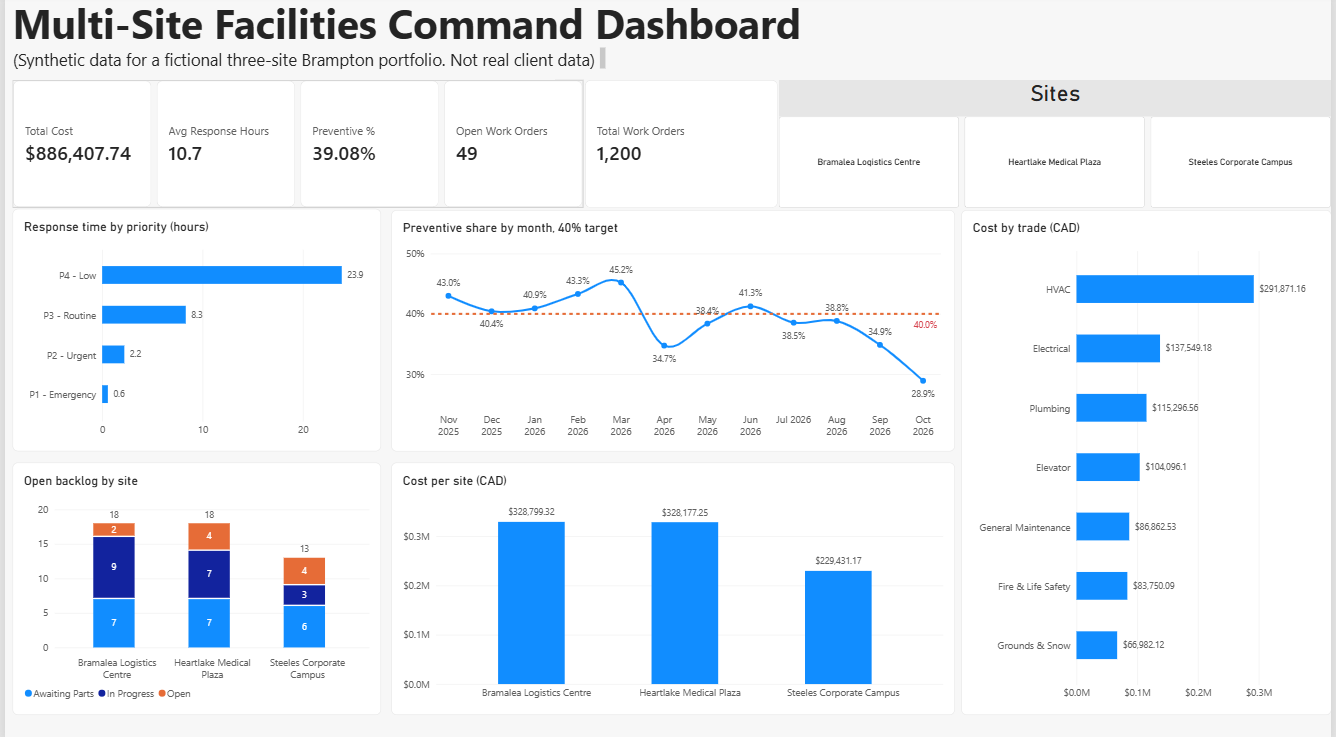

What the dashboard file says about the page in this screenshot:
{"tool":"powerbi","page":{"name":"Page 1","canvas":[1920,1080],"ordinal":0},"visuals":[{"type":"cardVisual","fields":{"Data":["WorkOrders.Total Work Orders"]},"box":[839.8,123.5,279.9,185.2],"z":0},{"type":"cardVisual","fields":{"Data":["WorkOrders.Total Cost","WorkOrders.Avg Response Hours","WorkOrders.Preventive %","WorkOrders.Open Work Orders"]},"box":[10.3,123.5,829.5,185.2],"z":1000},{"type":"clusteredBarChart","title":"Response time by priority (hours)","fields":{"Category":["WorkOrders.priority"],"Y":["WorkOrders.Avg Response Hours"]},"box":[10.9,309.5,533.8,351.1],"z":2000},{"type":"columnChart","title":"Open backlog by site","fields":{"Category":["WorkOrders.site"],"Series":["WorkOrders.status"],"Y":["WorkOrders.Open Work Orders"]},"box":[10.9,676.8,533.8,365.6],"z":3000},{"type":"lineChart","title":"Preventive share by month, 40% target","fields":{"Category":["Calendar.Month"],"Y":["WorkOrders.Preventive %"]},"box":[559.2,311.3,816.2,349.3],"z":4000},{"type":"clusteredColumnChart","title":"Cost per site (CAD)","fields":{"Category":["WorkOrders.site"],"Y":["WorkOrders.Total Cost"]},"box":[559.2,676.8,816.2,365.6],"z":5000},{"type":"clusteredBarChart","title":"Cost by trade (CAD)","fields":{"Category":["WorkOrders.trade"],"Y":["WorkOrders.Total Cost"]},"box":[1384.4,311.3,535.7,731.1],"z":6000},{"type":"advancedSlicerVisual","fields":{"Values":["WorkOrders.site"]},"box":[1119.7,123.5,800.7,185.2],"z":7000},{"type":"textbox","box":[10.3,0,1183.5,150.3],"z":7001},{"type":"textbox","box":[10.3,76.2,858.3,30.9],"z":7002}]}

Visuals, with their boxes in screenshot pixels (x1, y1, x2, y2), scaled from the page's 1920x1080 canvas onto the 1336x737 screenshot:
cardVisual - WorkOrders.Total Work Orders: bbox=(584, 84, 779, 211)
cardVisual - WorkOrders.Total Cost x WorkOrders.Avg Response Hours: bbox=(7, 84, 584, 211)
"Response time by priority (hours)" clusteredBarChart: bbox=(8, 211, 379, 451)
"Open backlog by site" columnChart: bbox=(8, 462, 379, 711)
"Preventive share by month, 40% target" lineChart: bbox=(389, 212, 957, 451)
"Cost per site (CAD)" clusteredColumnChart: bbox=(389, 462, 957, 711)
"Cost by trade (CAD)" clusteredBarChart: bbox=(963, 212, 1335, 711)
advancedSlicerVisual - WorkOrders.site: bbox=(779, 84, 1335, 211)
textbox: bbox=(7, 0, 831, 103)
textbox: bbox=(7, 52, 604, 73)
